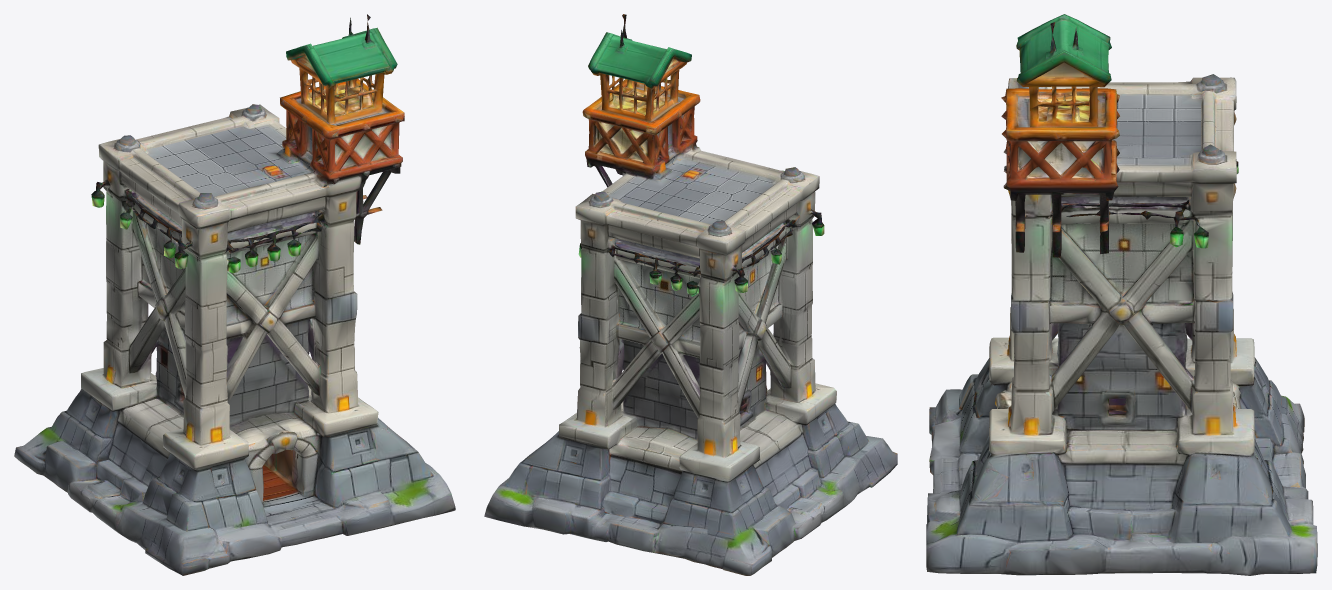
Rendered from tower.glb.
3 renders of one model, left to right at view 1: azimuth 30°, elevation 25°; view 2: azimuth 150°, elevation 25°; view 3: azimuth 270°, elevation 25°, orthographic. The views are drawn at different scales.
Parts seen in each view (by area): view 1: Mesh_0; view 2: Mesh_0; view 3: Mesh_0.
Boxes of the visible parts, x1,y1,x2,y2 form: Mesh_0: (14, 14, 455, 575); Mesh_0: (484, 14, 897, 575); Mesh_0: (926, 14, 1317, 575).
Size of the model in its own units: 1.23 by 1.91 by 1.27.
1 material, 1 textured.
